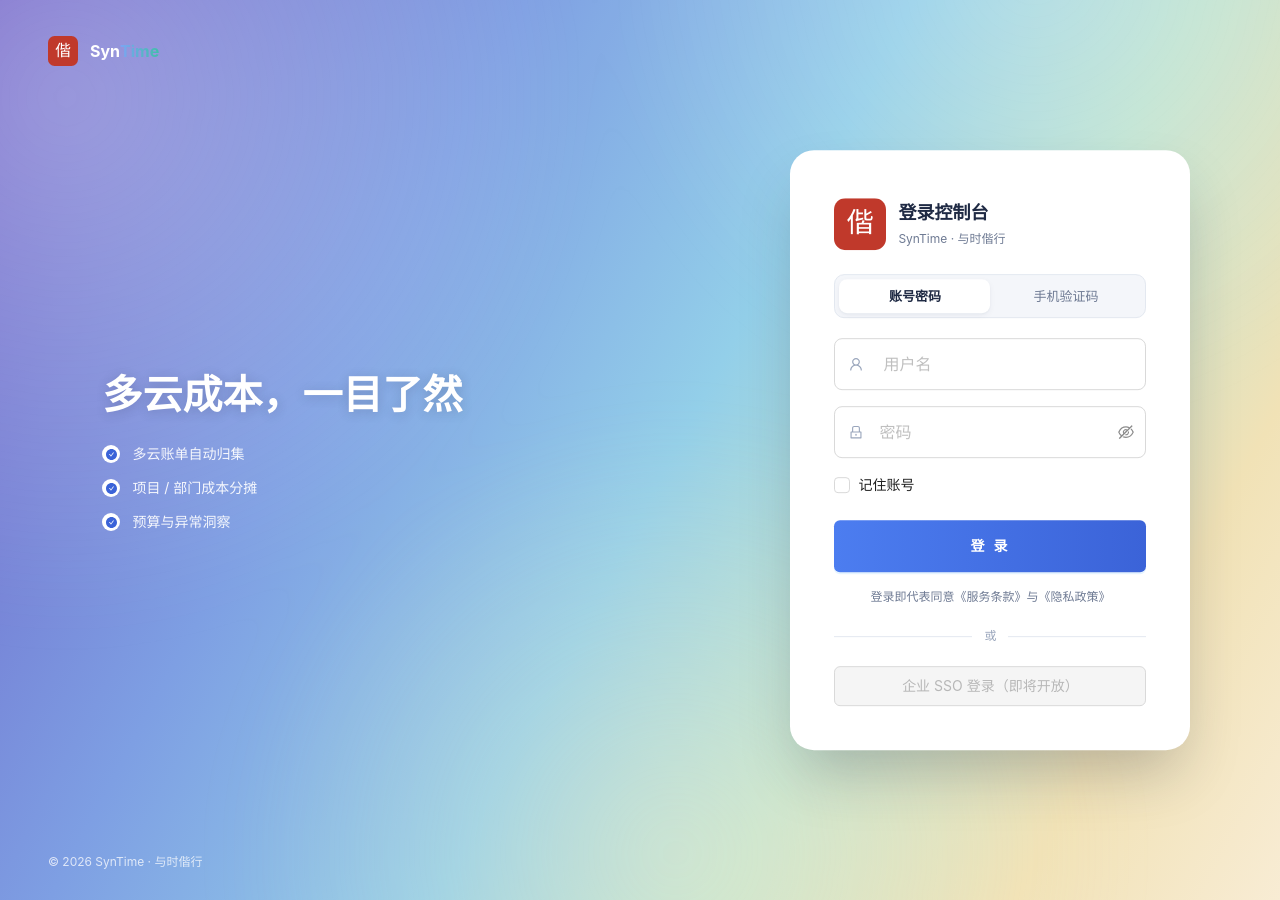
Test: login 抛出非 BizError 时兜底提示登录失败文案
The image size is (1280, 900).
Type "admin" into the field labelled "用户名" at [1009, 364], box [883, 346, 1134, 382]
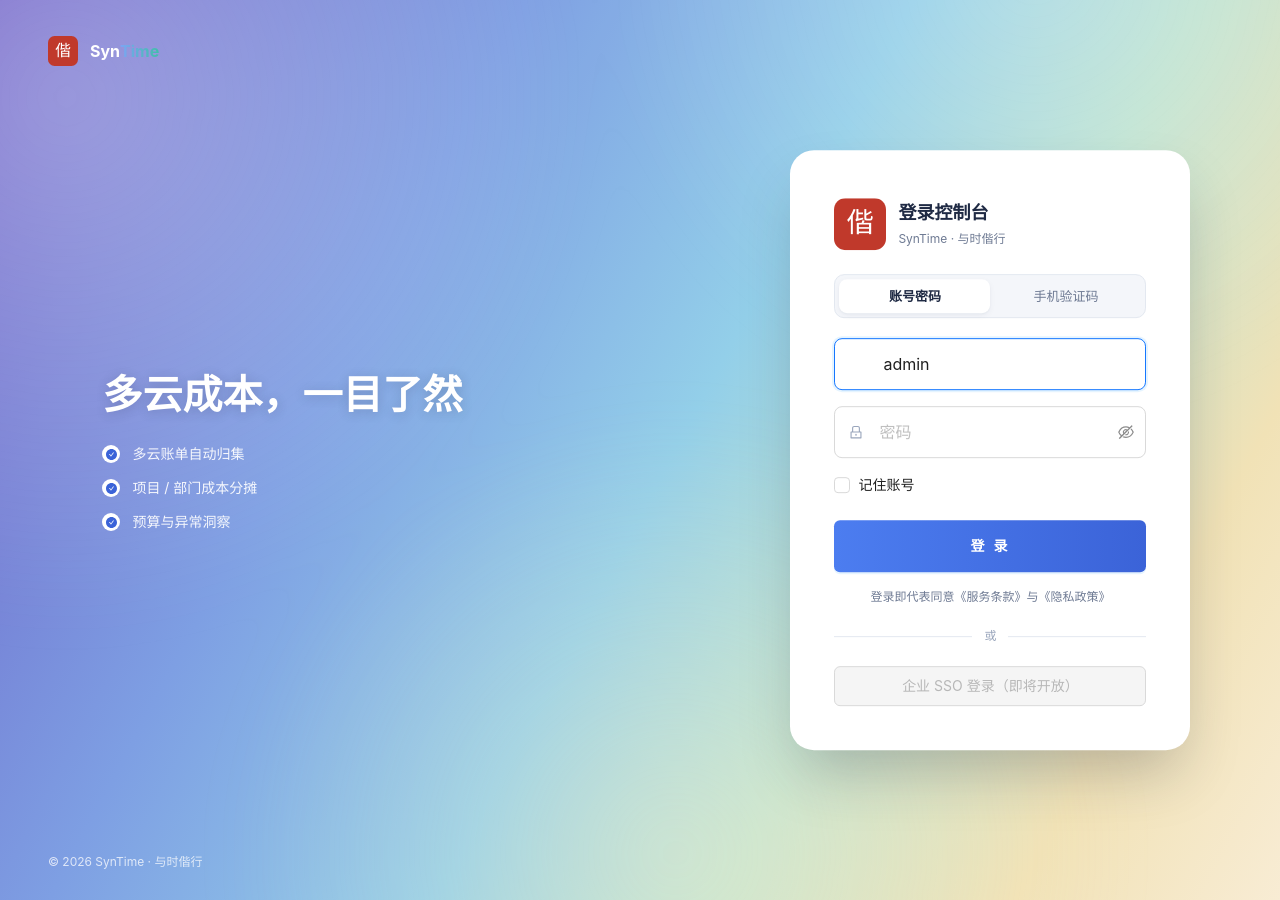
Type "pwd12345" into the password field labelled "密码" at [997, 432], box [879, 414, 1114, 450]
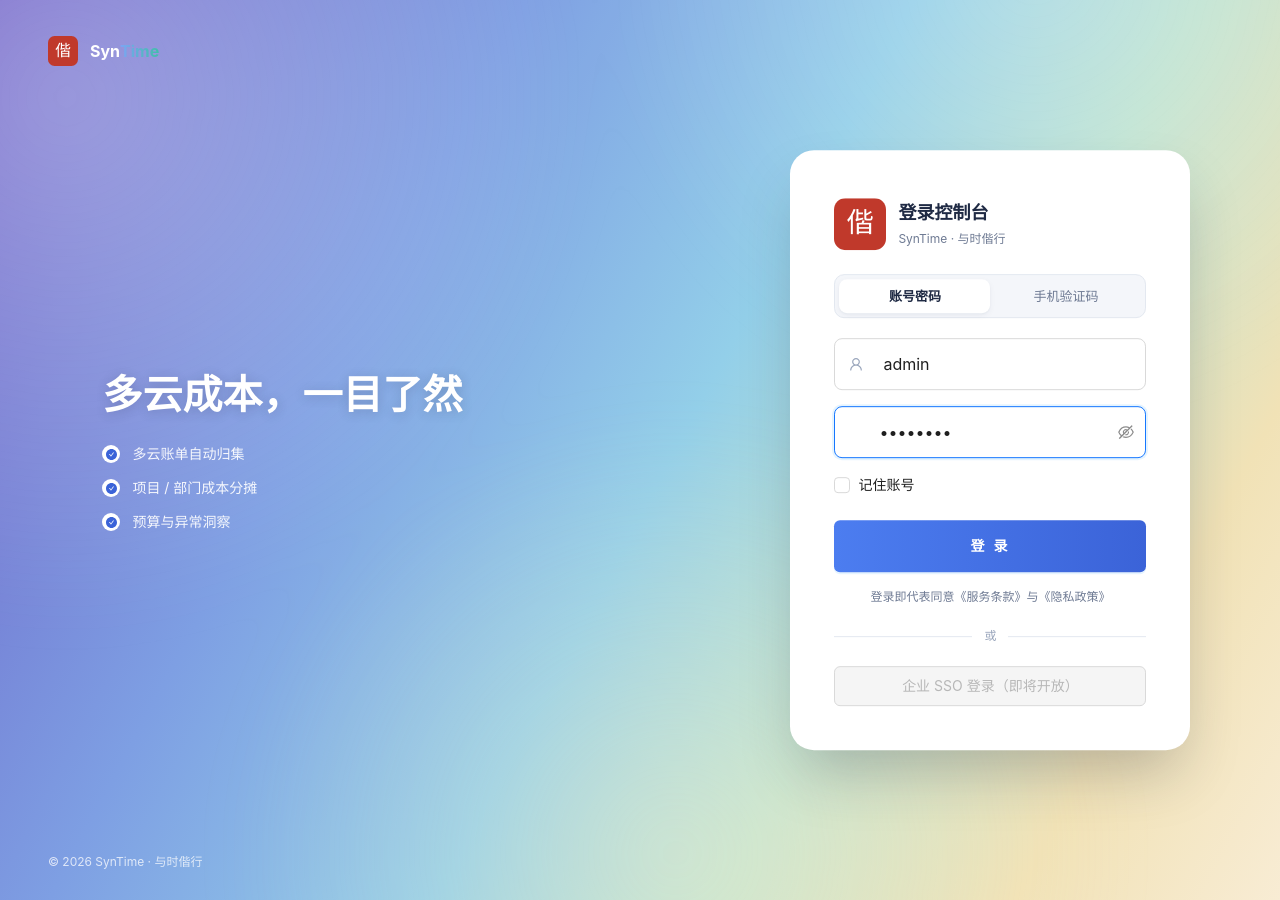
Click the button "登 录" at [990, 546], box [834, 520, 1146, 572]
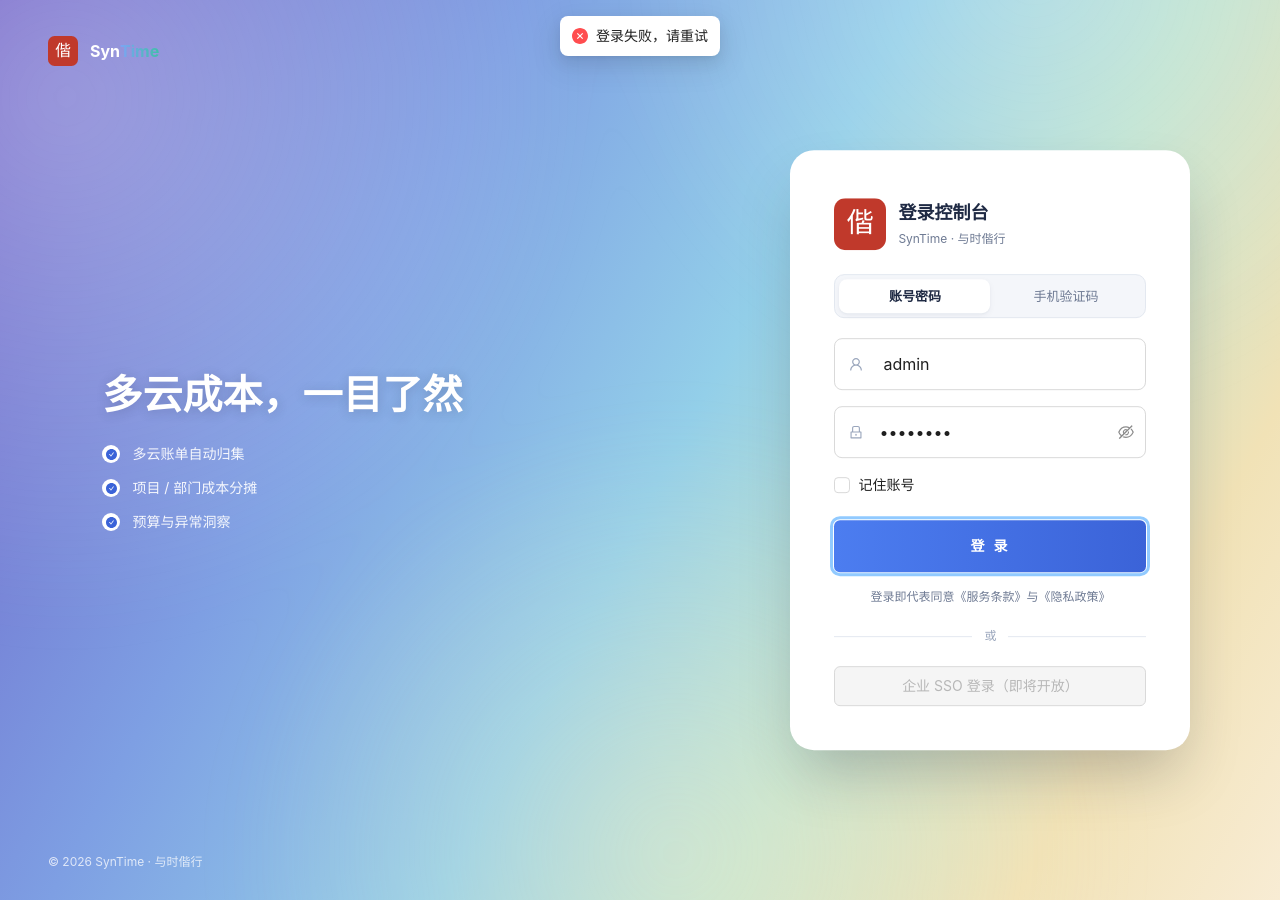
Expected: the text "登录失败，请重试" is shown, [596, 25, 708, 47]
